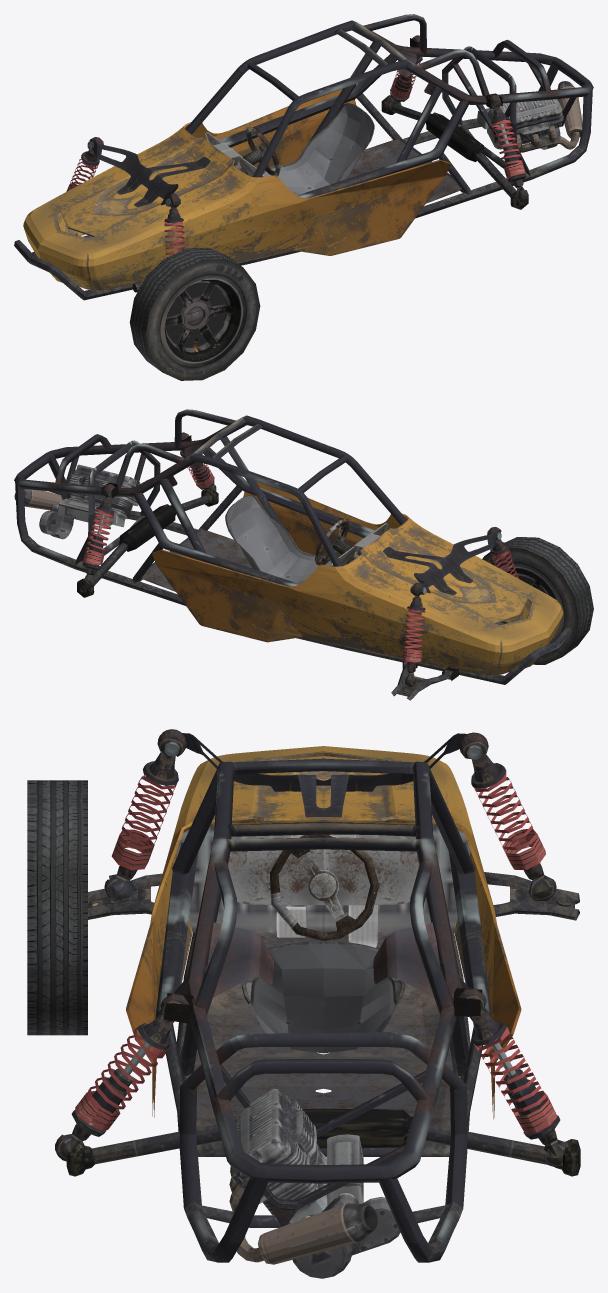
The model's file is buggy new.fbx.
3 views of the same model, one above another, from view 1: azimuth 30°, elevation 25°; view 2: azimuth 150°, elevation 25°; view 3: azimuth 270°, elevation 25° (orthographic). The views are drawn at different scales.
Parts seen in each view (by area): view 1: buggy, tire1; view 2: buggy, tire1; view 3: buggy, tire1.
Boxes of the visible parts, x1,y1,x2,y2 form: buggy: (14, 14, 593, 300); tire1: (129, 247, 260, 380); buggy: (14, 409, 572, 700); tire1: (482, 537, 593, 664); buggy: (55, 729, 580, 1278); tire1: (27, 780, 87, 1035).
Bounding box in the file's own units: 316 × 121 × 141.
